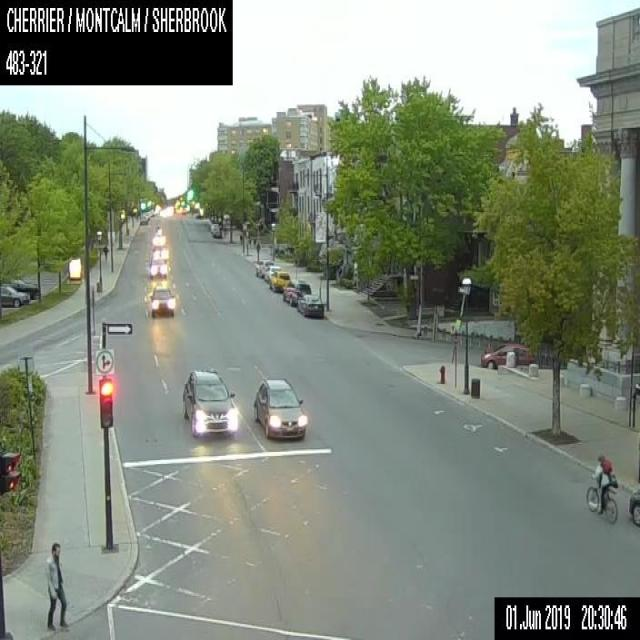cyclist: (584, 448, 618, 523)
pedestrian: (43, 542, 67, 630), (103, 243, 108, 264), (255, 241, 260, 259), (239, 233, 242, 246)
vehicle: (181, 369, 235, 436), (253, 378, 305, 438), (480, 340, 531, 368), (149, 284, 175, 317), (281, 279, 311, 306), (0, 284, 28, 307), (296, 294, 323, 317), (627, 478, 639, 526), (6, 280, 36, 299), (268, 270, 290, 292), (149, 257, 167, 277), (254, 259, 274, 277), (264, 264, 280, 282), (152, 244, 167, 259), (152, 233, 164, 245), (212, 228, 220, 237), (139, 216, 147, 224), (210, 223, 218, 231)
